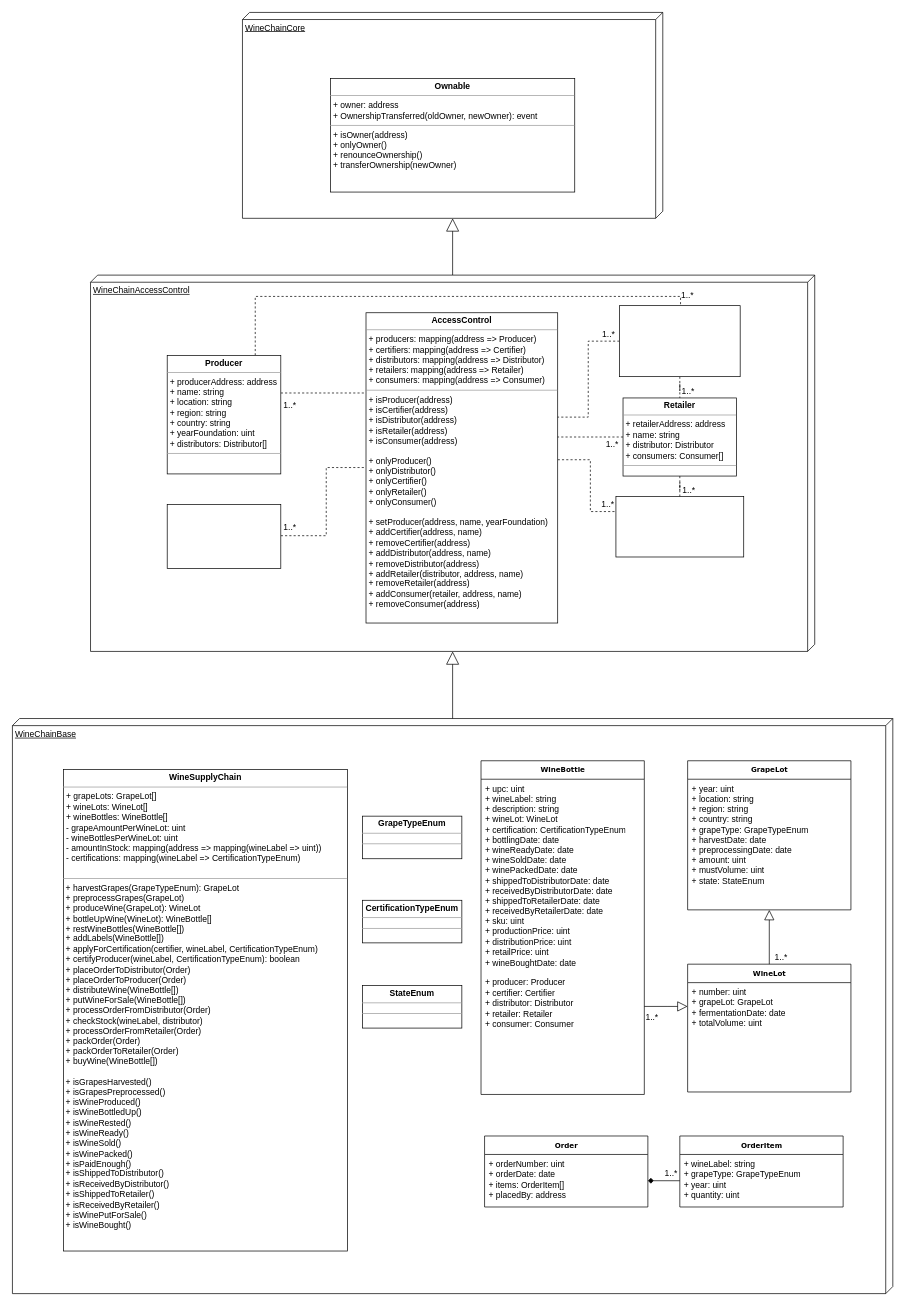
Image size: 905x1306. Some labels were removed from this diagram. The shapes that lost their labels are listed below. From the top down, each one's centre as x and y in pixels, then its label:
At pixel 679 341: "Distributor + distributorAddress: address + name: string + retailers: Retailer[]".
At pixel 223 536: "Certifier + certifierAddress: address + name: string".
At pixel 679 526: "Consumer + consumerAddress: address + name: string".
